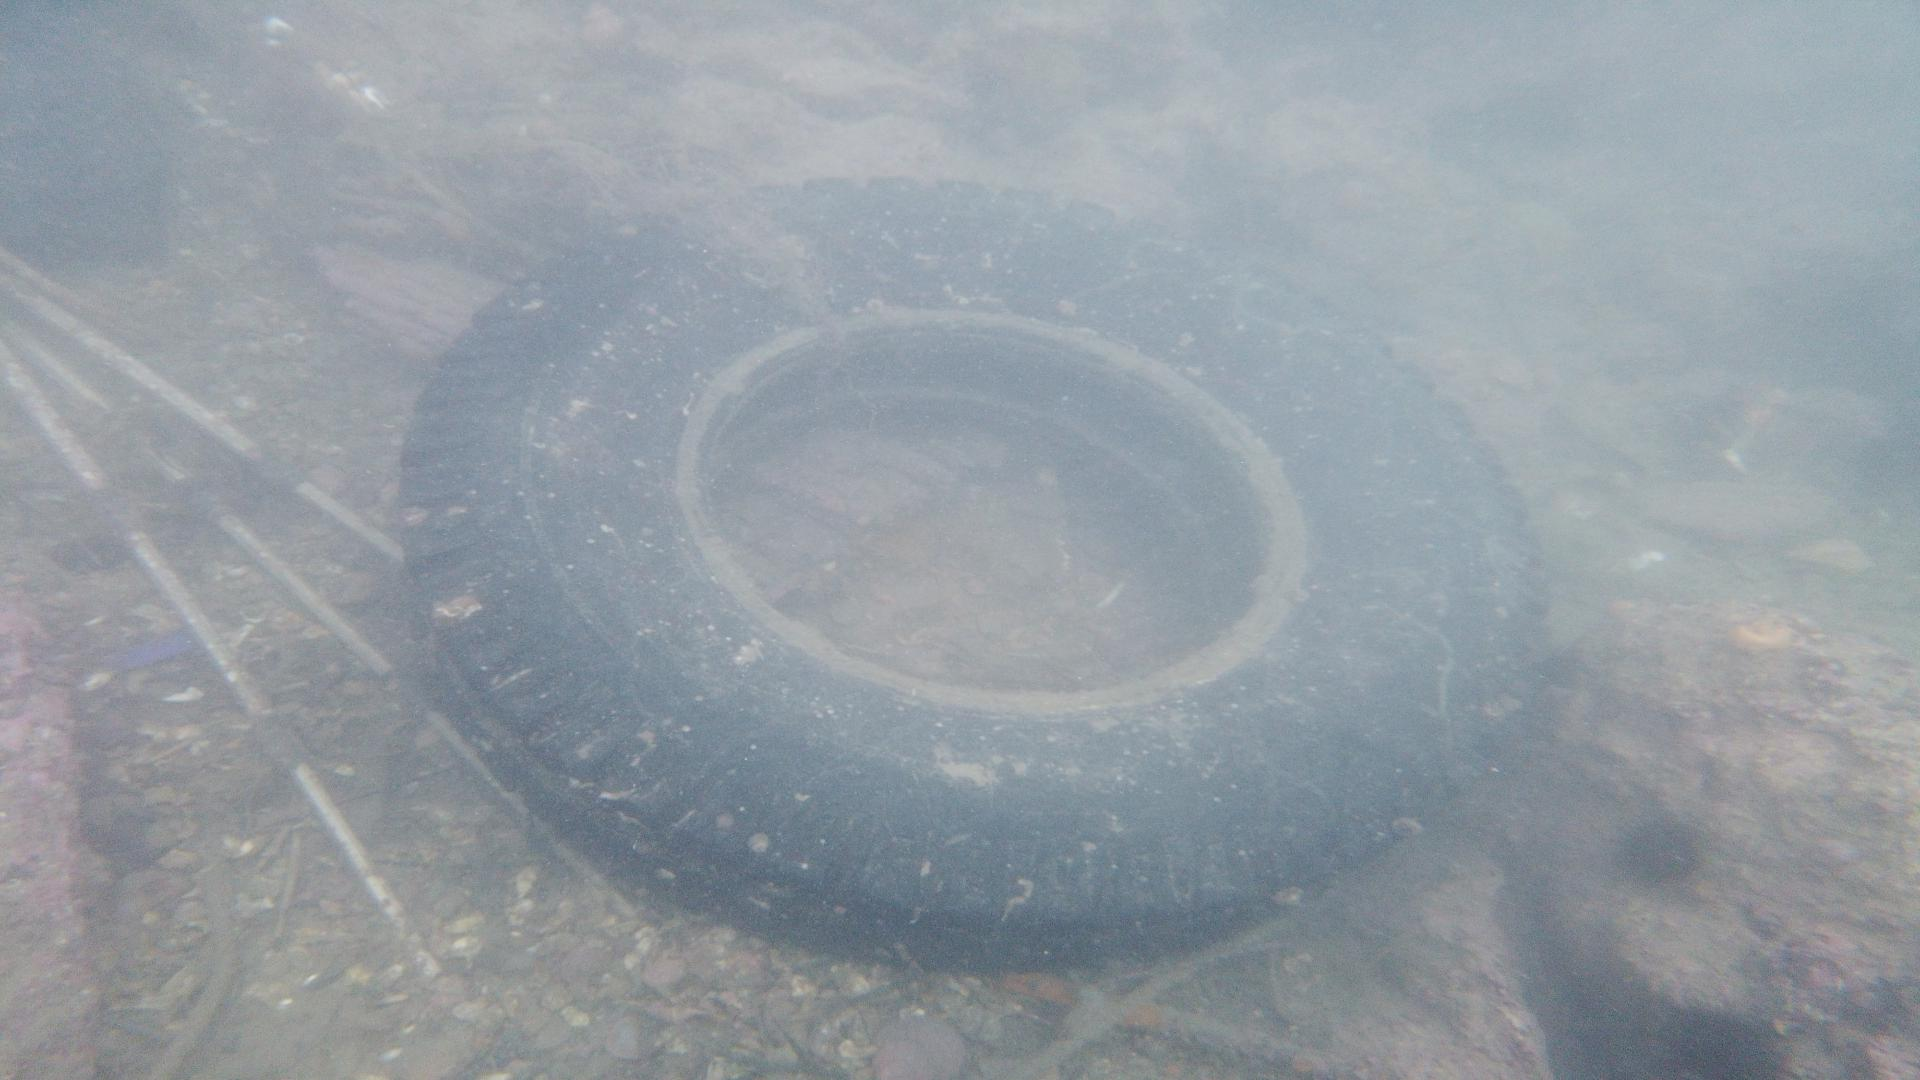tire: (392, 173, 1552, 971)
